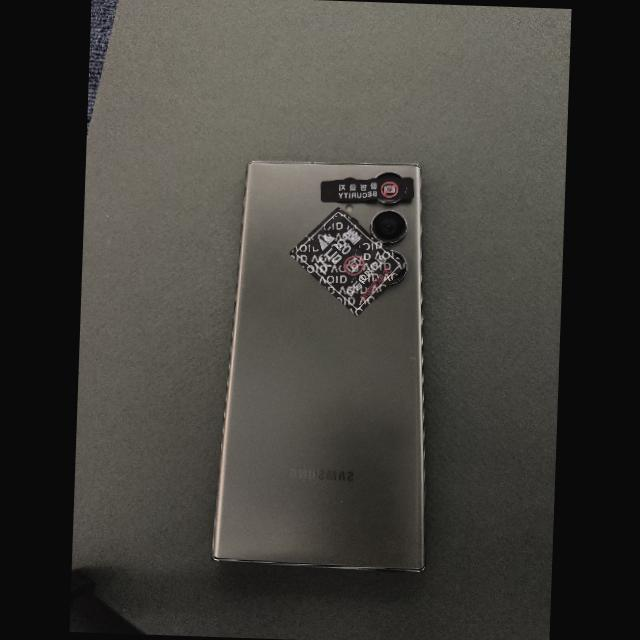lens: (370, 211, 405, 243), (390, 267, 405, 284), (375, 172, 399, 179), (341, 177, 357, 180)
phone: (211, 160, 424, 573)
sticker: (289, 206, 407, 316), (320, 177, 415, 201)
